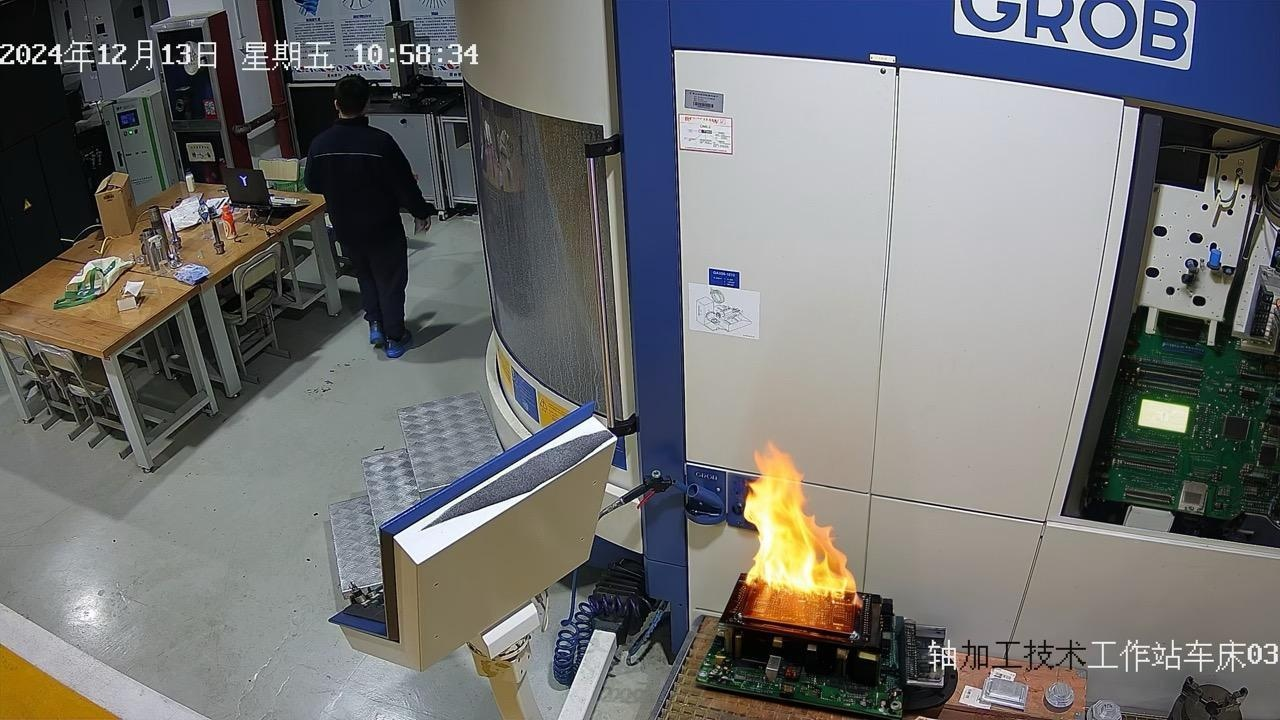fire: (708, 419, 895, 660)
